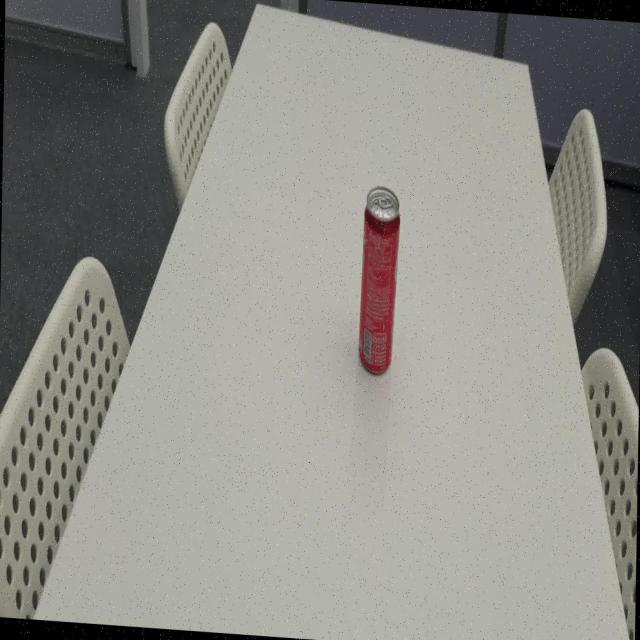coca-cola: (356, 185, 402, 382)
